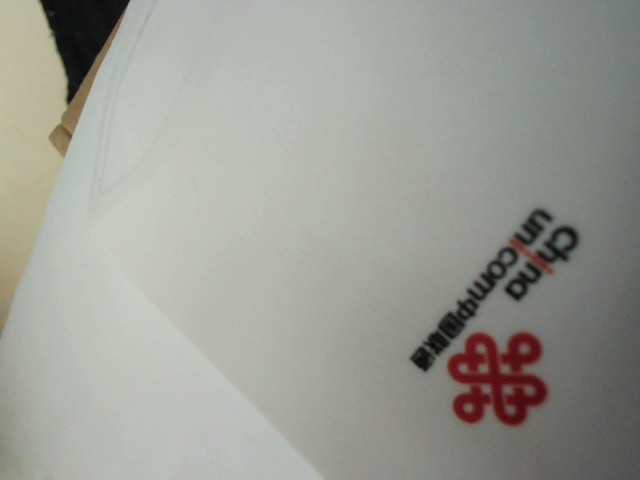ChinaUnicom: (407, 179, 590, 436)
